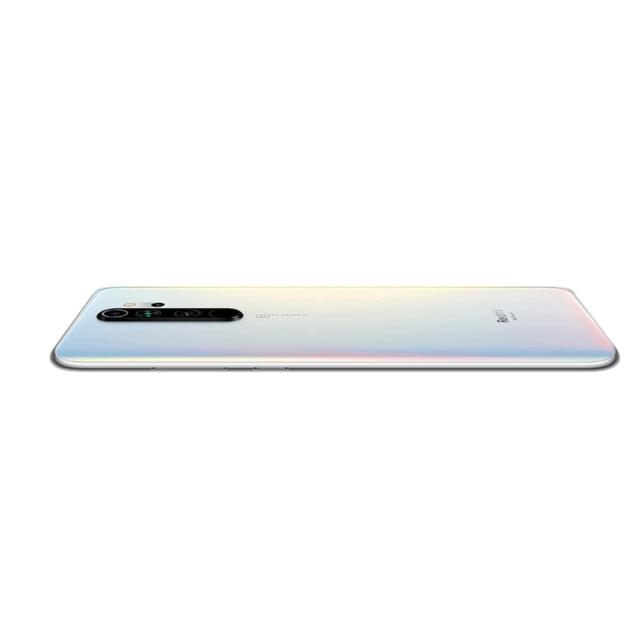Red Mi Note 8 Pro: (49, 283, 621, 374)
